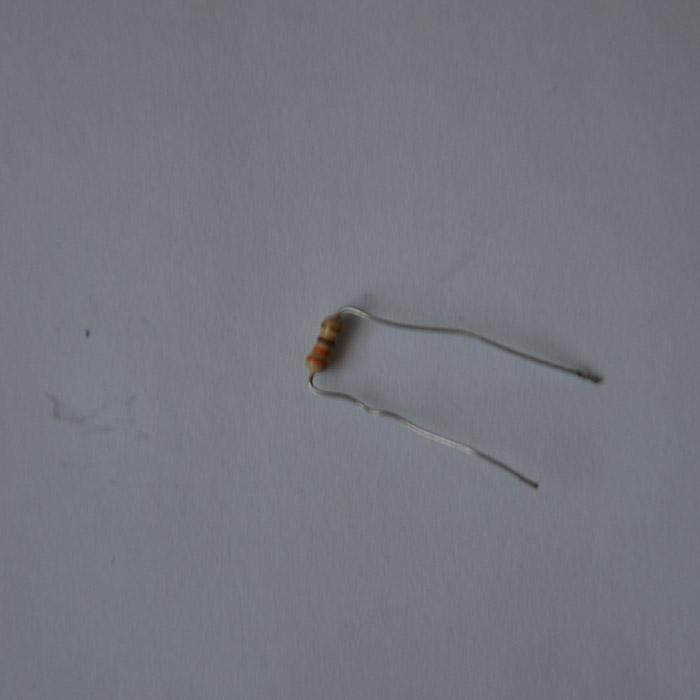resistor: (305, 312, 343, 380)
